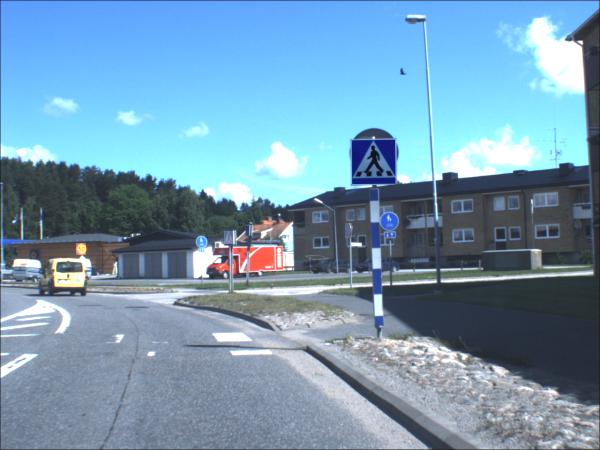50_SIGN: (77, 244, 88, 257)
NO_PARKING: (347, 224, 355, 240)
PEDESTRIAN_CROSSING: (353, 141, 397, 186), (225, 232, 237, 246), (247, 227, 251, 237)
